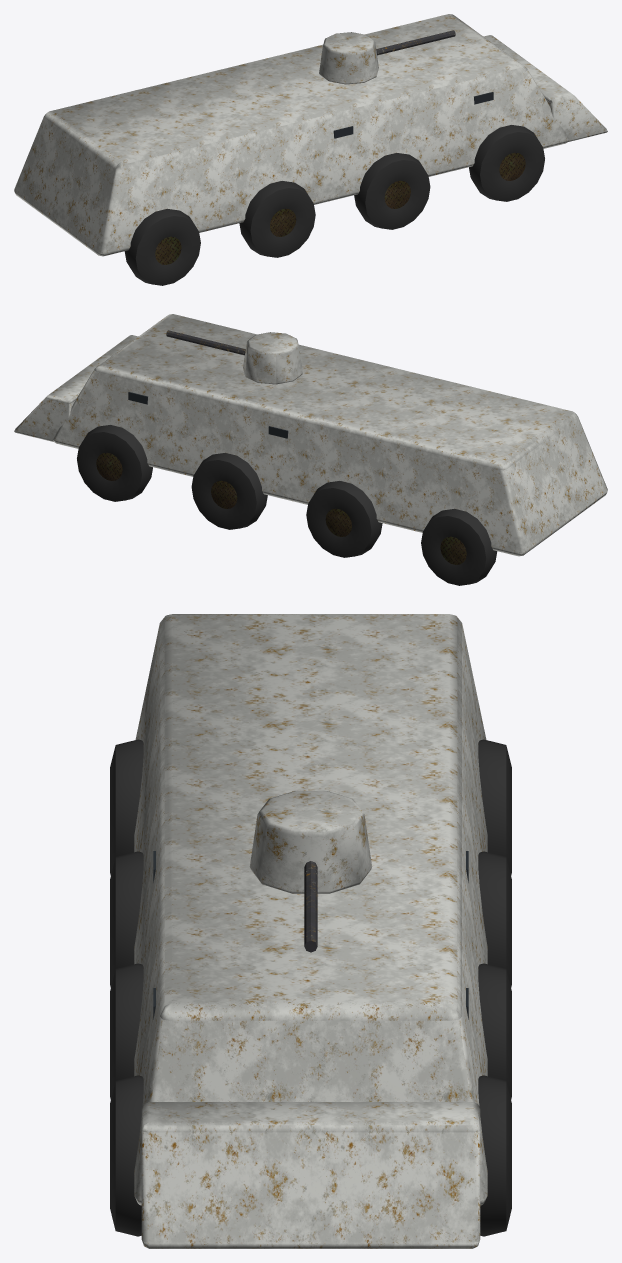
Rendered from veh_btr.gltf.
3 views of the same model, one above another, from view 1: azimuth 30°, elevation 25°; view 2: azimuth 150°, elevation 25°; view 3: azimuth 270°, elevation 25° (orthographic). The views are drawn at different scales.
Parts seen in each view (by area): view 1: box, torus.006, torus.004, torus, torus.002, cyl.008, box.001, cyl.006, cyl.004, cyl, cyl.002, cyl.009; view 2: box, torus.007, torus.005, torus.001, torus.003, cyl.008, box.001, cyl.007, cyl.005, cyl.001, cyl.003, cyl.009; view 3: box, box.001, cyl.008, torus, torus.001, torus.002, torus.003, torus.004, torus.005, torus.006, torus.007, cyl.009.
Part boxes in pixels (bbox=[...]): box: bbox=[14, 14, 568, 256]; torus.006: bbox=[124, 208, 200, 285]; torus.004: bbox=[239, 181, 315, 257]; torus: bbox=[469, 125, 544, 201]; torus.002: bbox=[354, 153, 430, 229]; cyl.008: bbox=[319, 32, 378, 84]; box.001: bbox=[483, 35, 607, 141]; cyl.006: bbox=[155, 236, 181, 264]; cyl.004: bbox=[270, 208, 296, 236]; cyl: bbox=[499, 152, 525, 180]; cyl.002: bbox=[384, 180, 410, 208]; cyl.009: bbox=[376, 30, 455, 55]; box: bbox=[53, 314, 607, 556]; torus.007: bbox=[421, 508, 497, 585]; torus.005: bbox=[306, 481, 382, 557]; torus.001: bbox=[77, 425, 152, 501]; torus.003: bbox=[191, 453, 267, 529]; cyl.008: bbox=[243, 332, 302, 384]; box.001: bbox=[14, 335, 138, 441]; cyl.007: bbox=[440, 536, 466, 564]; cyl.005: bbox=[325, 508, 351, 536]; cyl.001: bbox=[96, 452, 122, 480]; cyl.003: bbox=[211, 480, 237, 508]; cyl.009: bbox=[166, 330, 245, 355]; box: bbox=[134, 614, 487, 1205]; box.001: bbox=[141, 1102, 480, 1248]; cyl.008: bbox=[249, 791, 372, 893]; torus: bbox=[110, 1075, 143, 1236]; torus.001: bbox=[478, 1075, 511, 1236]; torus.002: bbox=[110, 963, 143, 1099]; torus.003: bbox=[478, 963, 511, 1099]; torus.004: bbox=[110, 851, 143, 987]; torus.005: bbox=[478, 851, 511, 987]; torus.006: bbox=[110, 739, 143, 875]; torus.007: bbox=[478, 739, 511, 875]; cyl.009: bbox=[304, 861, 317, 952].
Size of the model in its own units: 8.02 by 2.29 by 2.73.
5 materials, 3 textured.
